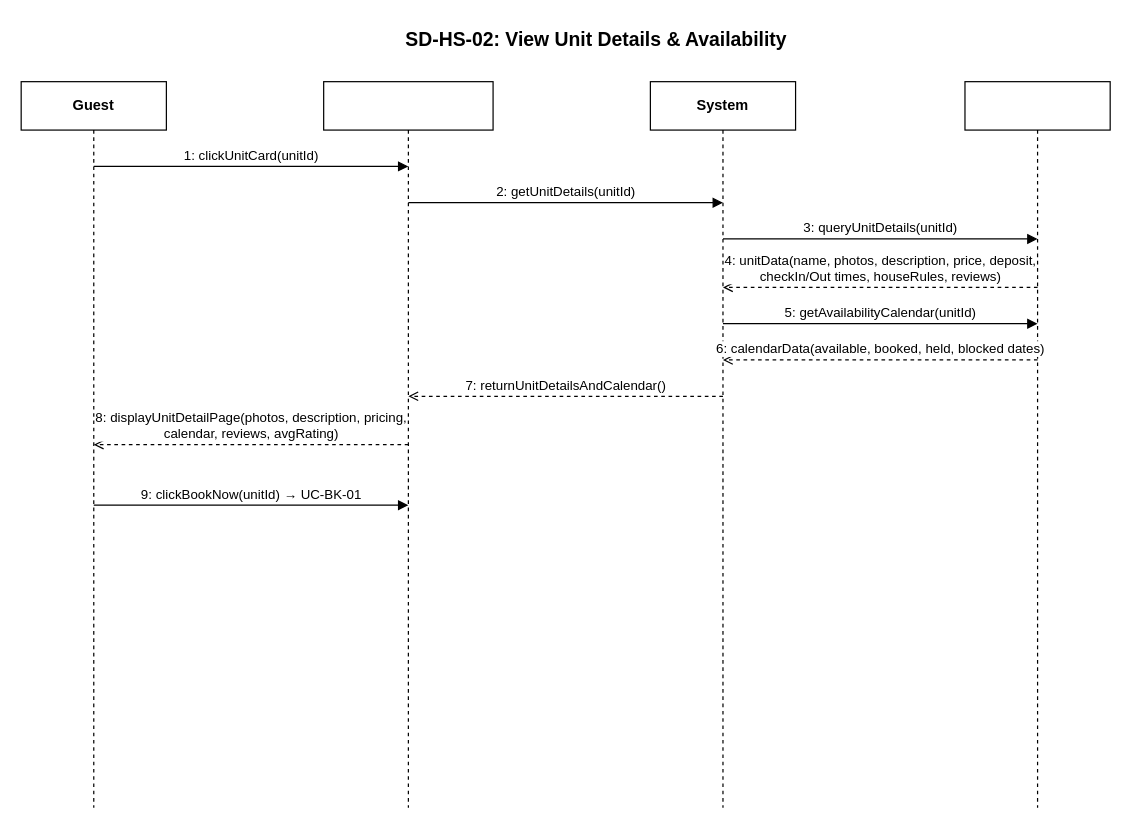
The diagram is 1131 pixels wide and 829 high, and some of its shapes have lost their labels. The box of each missing label's shape, as (x1, y1, x2, y2) in pixels:
Database: (964, 80, 1110, 808)
Unit Detail Page: (322, 80, 493, 808)
